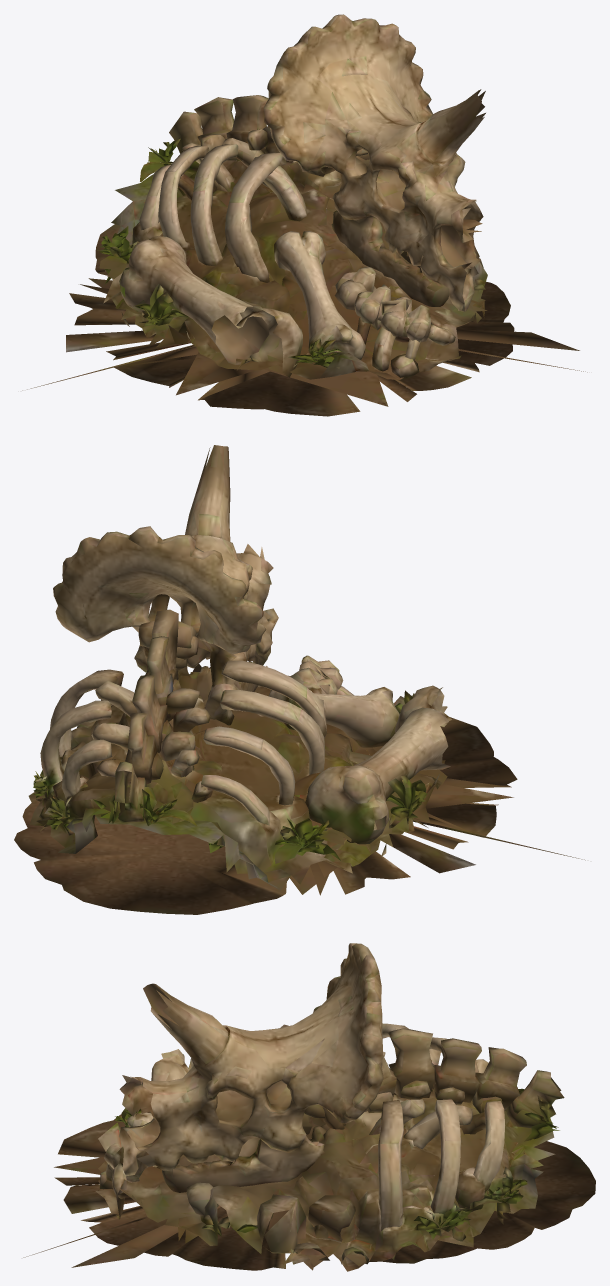
Rendered from node_bone_pile.glb.
3 renders of one model, top to bottom at view 1: azimuth 30°, elevation 25°; view 2: azimuth 150°, elevation 25°; view 3: azimuth 270°, elevation 25°, orthographic. The views are drawn at different scales.
Size of the model in its own units: 0.4243 by 0.2193 by 0.4365.
1 material, 1 textured.
